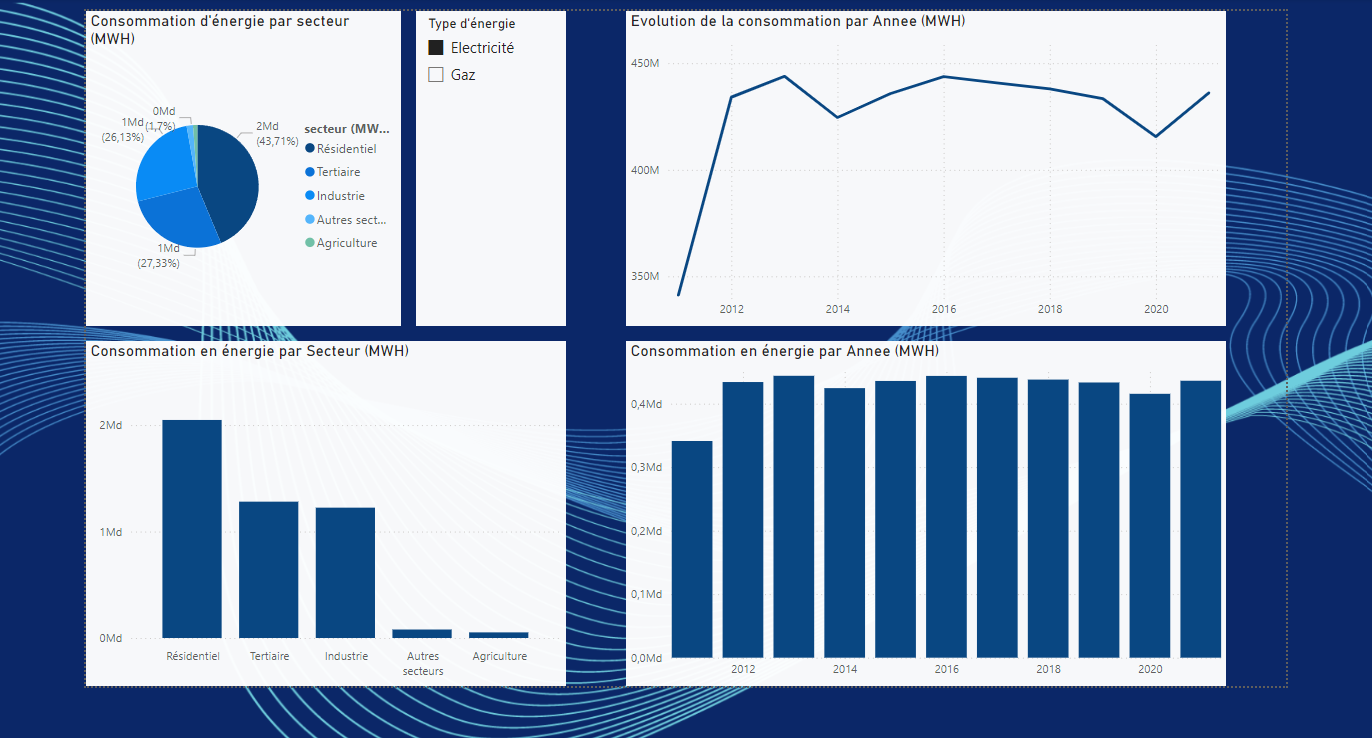

Layout of this report page (visuals, bound fields, positions):
{"tool":"powerbi","page":{"name":"Page 1","canvas":[1280,720],"ordinal":0},"visuals":[{"type":"pieChart","fields":{"Category":["Raw data.libelle_grand_secteur"],"Y":["Sum(Raw data.conso)"]},"box":[0,0,336,336],"z":0},{"type":"columnChart","fields":{"Y":["Sum(Raw data.conso)"],"Category":["Raw data.libelle_grand_secteur"]},"box":[0,352,512,368],"z":1},{"type":"lineChart","fields":{"Y":["Sum(Raw data.conso)"],"Category":["Raw data.annee"]},"box":[576,0,640,336],"z":2},{"type":"slicer","fields":{"Values":["Raw data.filiere"]},"box":[352,0,160,336],"z":3},{"type":"columnChart","fields":{"Category":["Raw data.annee"],"Y":["Sum(Raw data.conso)"]},"box":[576,352,640,368],"z":4}]}

Visuals, with their boxes on the page's 1280x720 design canvas (x1, y1, x2, y2). These are canvas units, not pixel positions in the 1372x738 screenshot, which may show the page scaled, cropped or inside an application window:
pieChart - Raw data.libelle_grand_secteur x Sum(Raw data.conso): {"left": 0, "top": 0, "right": 336, "bottom": 336}
columnChart - Sum(Raw data.conso) x Raw data.libelle_grand_secteur: {"left": 0, "top": 352, "right": 512, "bottom": 720}
lineChart - Sum(Raw data.conso) x Raw data.annee: {"left": 576, "top": 0, "right": 1216, "bottom": 336}
slicer - Raw data.filiere: {"left": 352, "top": 0, "right": 512, "bottom": 336}
columnChart - Raw data.annee x Sum(Raw data.conso): {"left": 576, "top": 352, "right": 1216, "bottom": 720}
